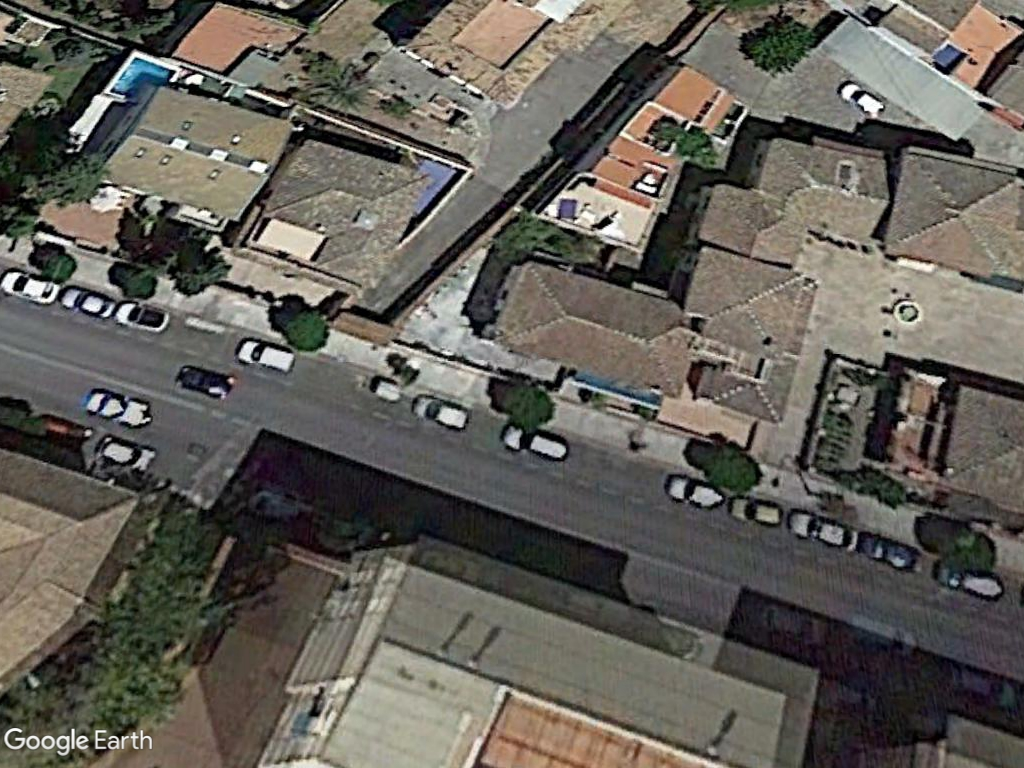car: (787, 505, 860, 555), (499, 419, 573, 466), (863, 523, 923, 574), (0, 259, 62, 308), (662, 471, 727, 516), (411, 386, 474, 432), (174, 359, 238, 401), (91, 434, 158, 473), (729, 488, 785, 530), (62, 279, 116, 321)
other: (81, 384, 154, 432), (119, 296, 175, 335)
van: (232, 333, 298, 374)
